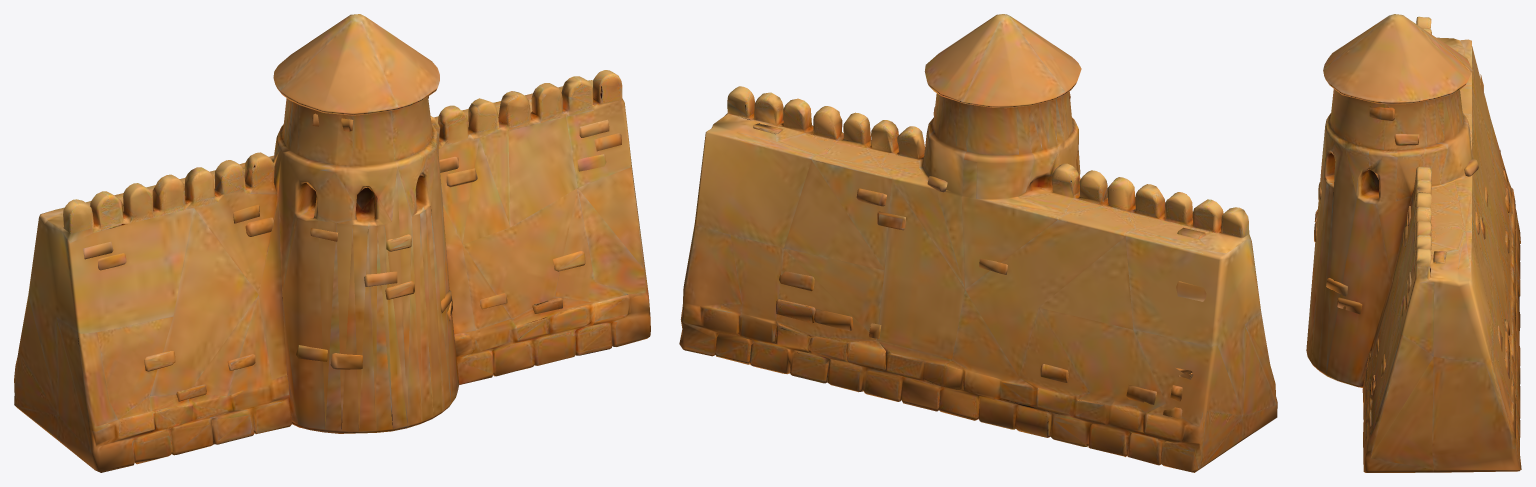
Rendered from khwall.glb.
3 renders of one model, left to right at view 1: azimuth 30°, elevation 25°; view 2: azimuth 150°, elevation 25°; view 3: azimuth 270°, elevation 25°, orthographic. The views are drawn at different scales.
Visible parts, largest first — view 1: geometry_0; view 2: geometry_0; view 3: geometry_0.
Part boxes in pixels (x1,y1,x2,y2): geometry_0: [14, 14, 650, 472]; geometry_0: [679, 14, 1277, 472]; geometry_0: [1306, 14, 1521, 472].
Size of the model in its own units: 0.9521 by 0.6147 by 0.3526.
Materials: 1 (1 with a texture image).
